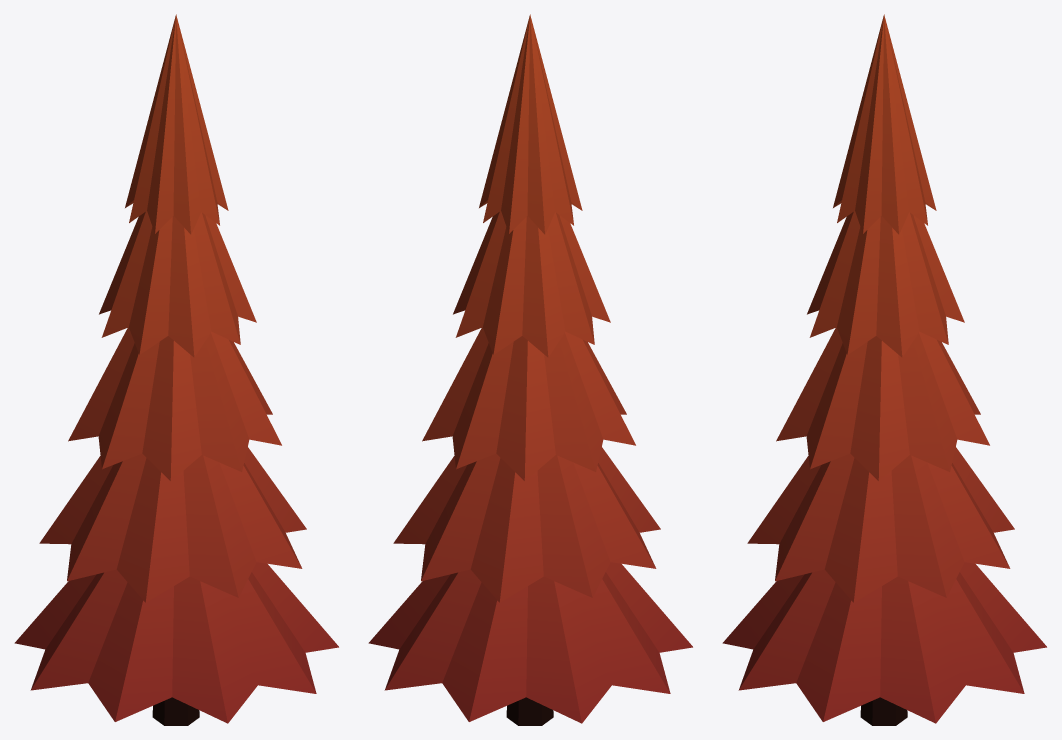
File: Tree_Red.fbx
3 renders of one model, left to right at view 1: azimuth 30°, elevation 25°; view 2: azimuth 150°, elevation 25°; view 3: azimuth 270°, elevation 25°, orthographic.
Parts seen in each view (by area): view 1: Tree_Red; view 2: Tree_Red; view 3: Tree_Red.
Boxes of the visible parts, x1=… form: Tree_Red: x1=14, y1=14, x2=338, y2=725; Tree_Red: x1=368, y1=14, x2=692, y2=725; Tree_Red: x1=722, y1=14, x2=1046, y2=725.
Bounding box in the file's own units: 341 × 822 × 345.
